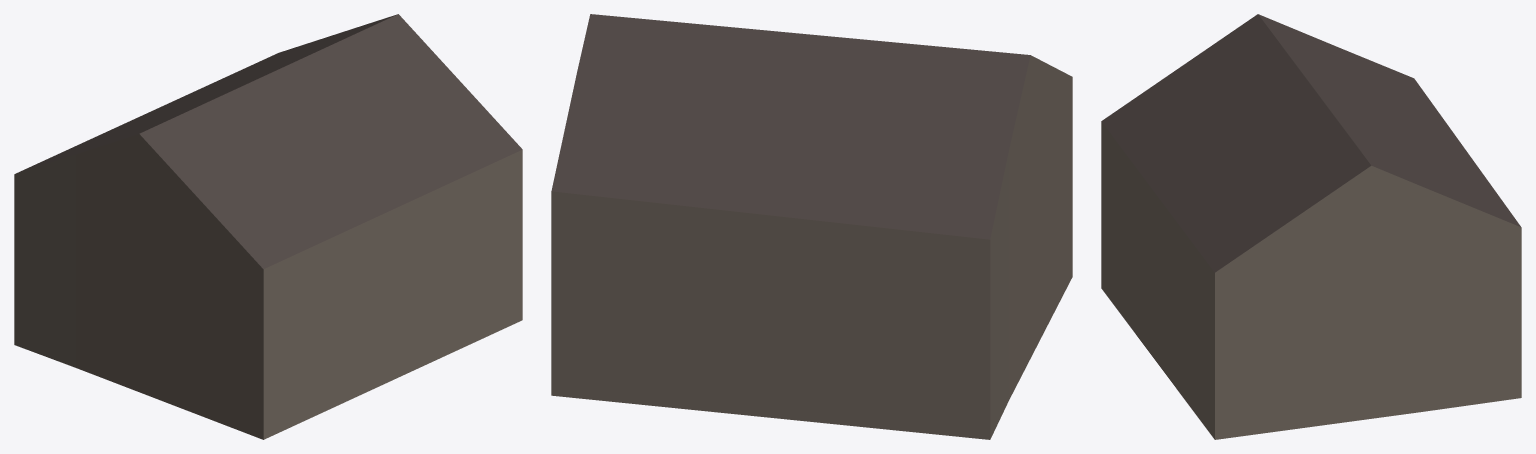
3 renders of one model, left to right at view 1: azimuth 30°, elevation 25°; view 2: azimuth 150°, elevation 25°; view 3: azimuth 270°, elevation 25°, orthographic. The views are drawn at different scales.
Parts seen in each view (by area): view 1: HP-w1198867491; view 2: HP-w1198867491; view 3: HP-w1198867491.
Part boxes in pixels (left/top/right/bottom): HP-w1198867491: left=14, top=14, right=522, bottom=439; HP-w1198867491: left=551, top=14, right=1072, bottom=439; HP-w1198867491: left=1101, top=14, right=1521, bottom=439.
Size of the model in its own units: 14.97 by 9.09 by 13.67.
